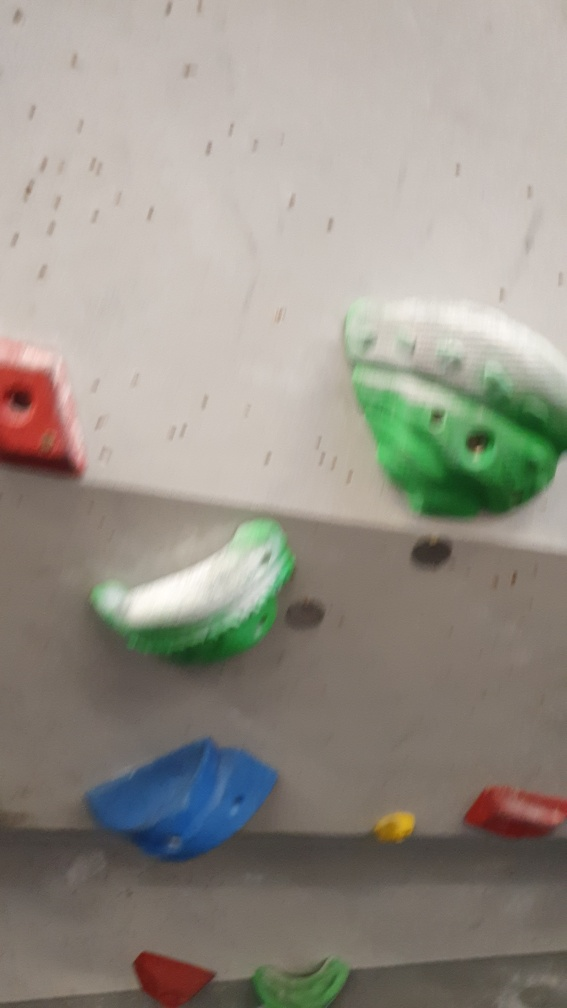Crimp: (1, 326, 99, 484), (463, 780, 567, 853)
Hand Start: (279, 592, 330, 639), (413, 532, 455, 574)
Jug: (334, 281, 567, 528), (83, 513, 302, 673), (246, 949, 351, 1008)
Pinch: (75, 729, 281, 865)
